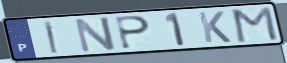1: (163, 12, 187, 47)
I: (42, 20, 60, 55)
K: (196, 10, 234, 44)
M: (231, 6, 281, 45)
N: (72, 15, 118, 55)
P: (114, 15, 152, 51)
